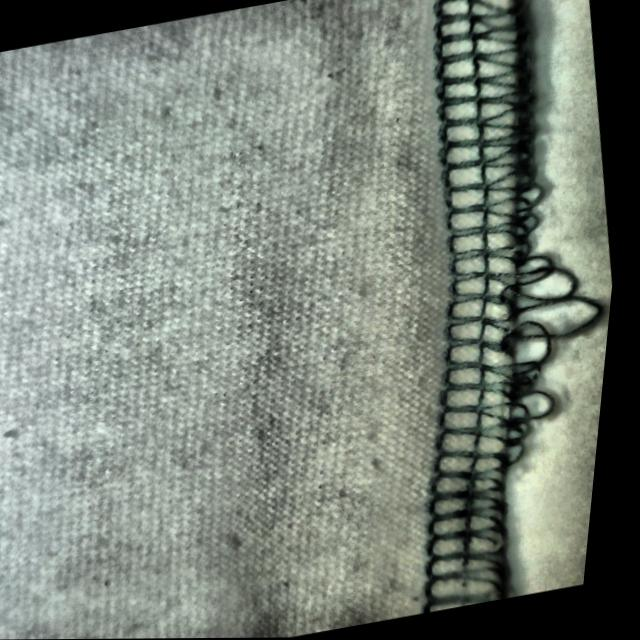Stitch: (396, 161, 627, 478)
